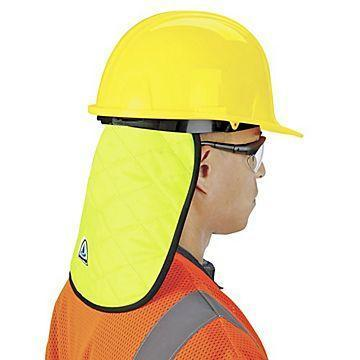vest: (44, 243, 269, 359)
